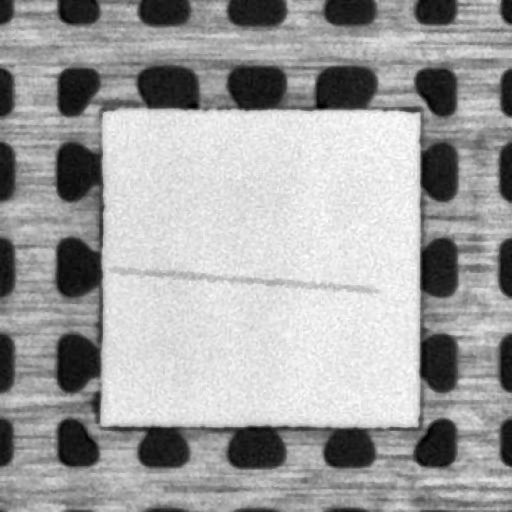DIE_CRACK: (111, 269, 374, 290)
